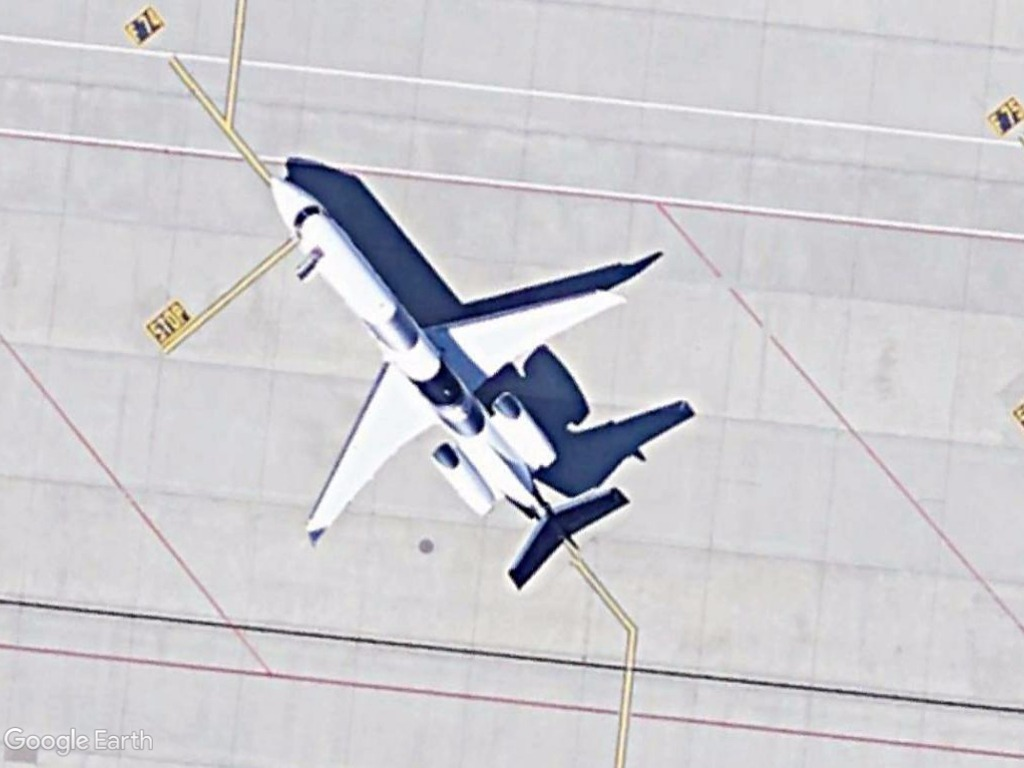chartered: (262, 171, 634, 590)
